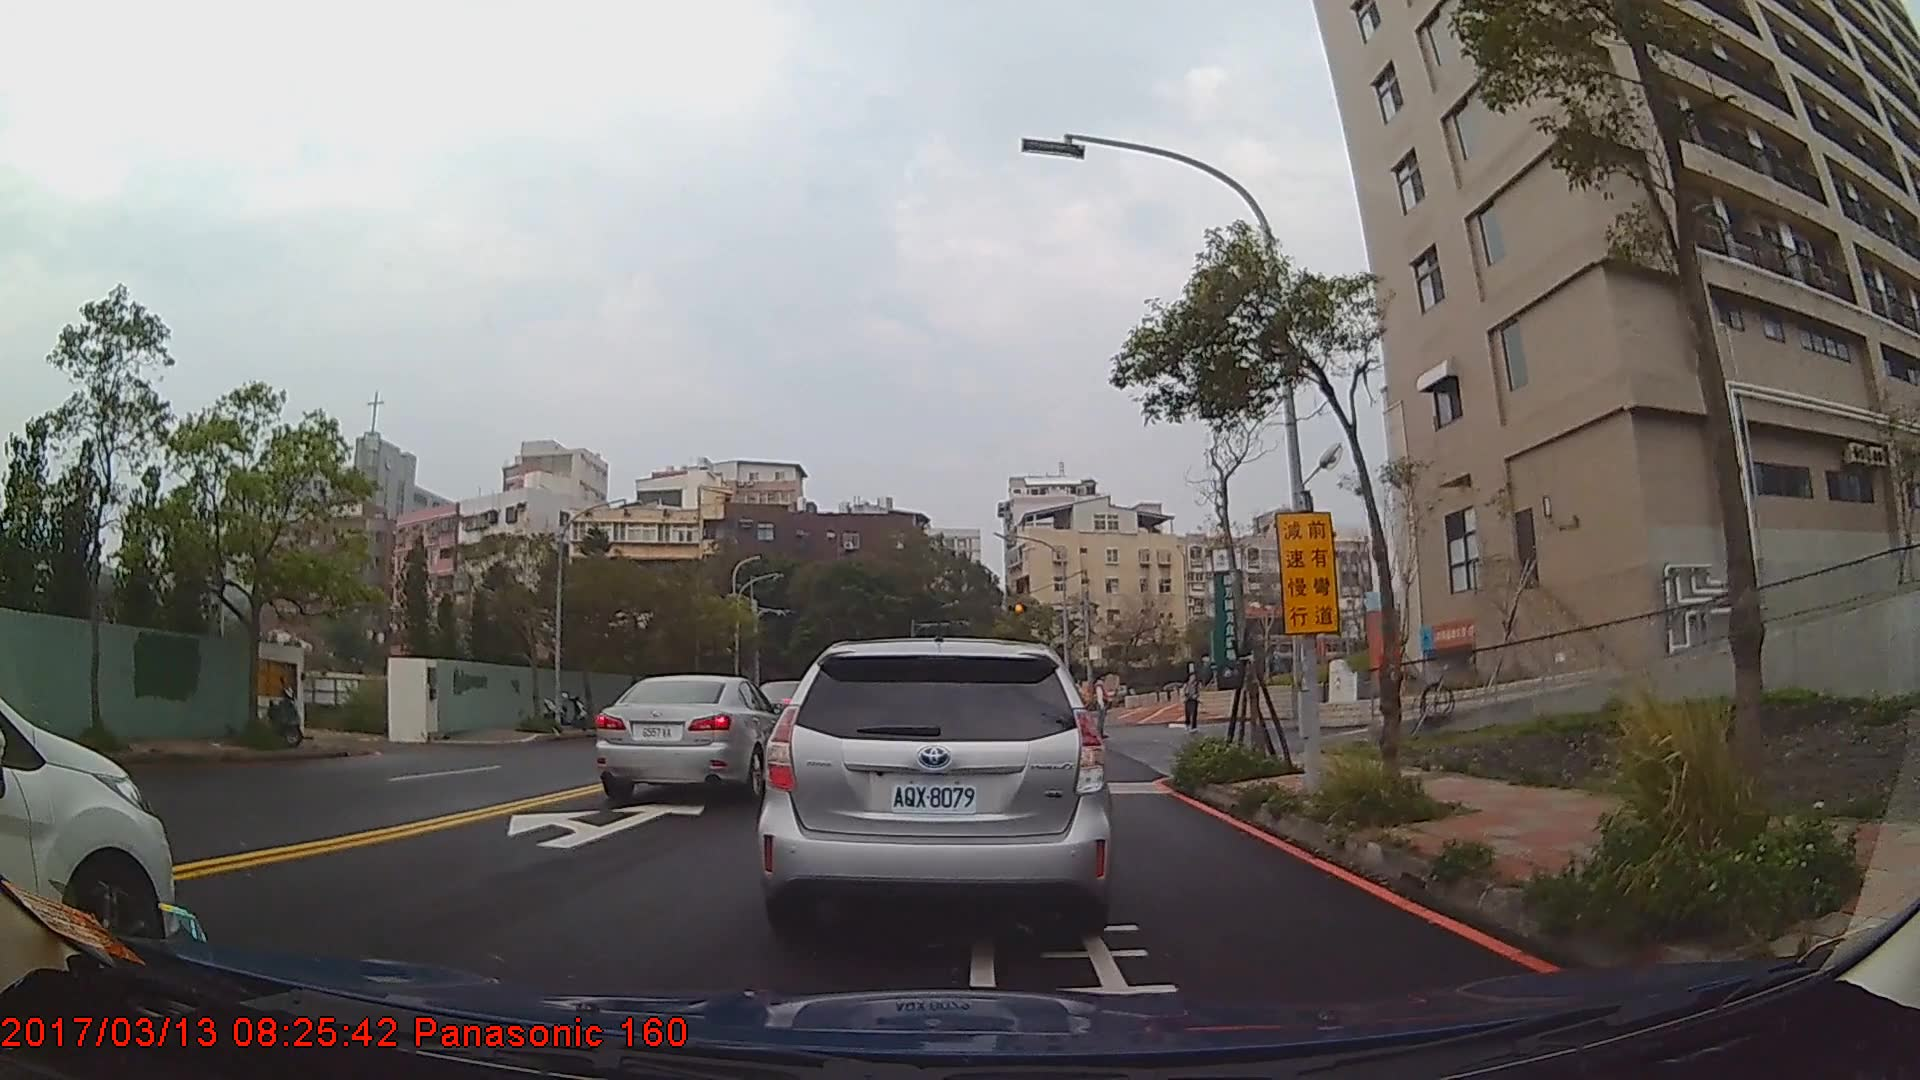pedestrian: (1092, 667, 1115, 743), (1182, 675, 1202, 735)
vehicle: (757, 637, 1111, 949), (0, 693, 176, 976), (593, 673, 788, 806)
